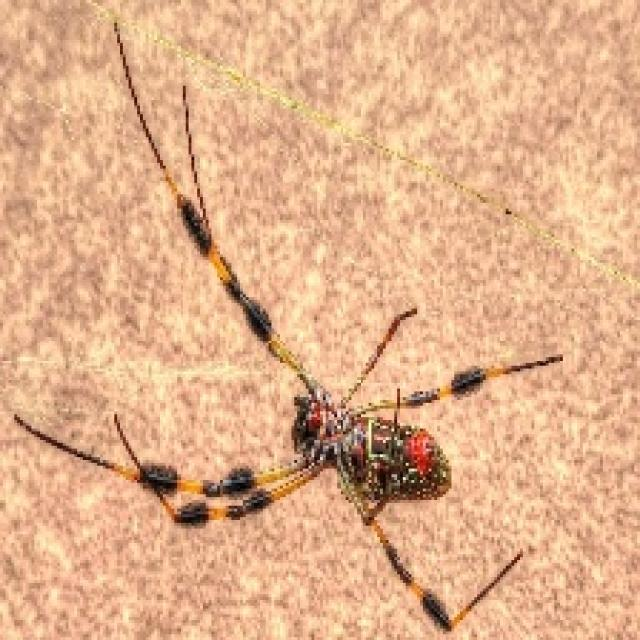Non venomous spider: (35, 22, 609, 616)
